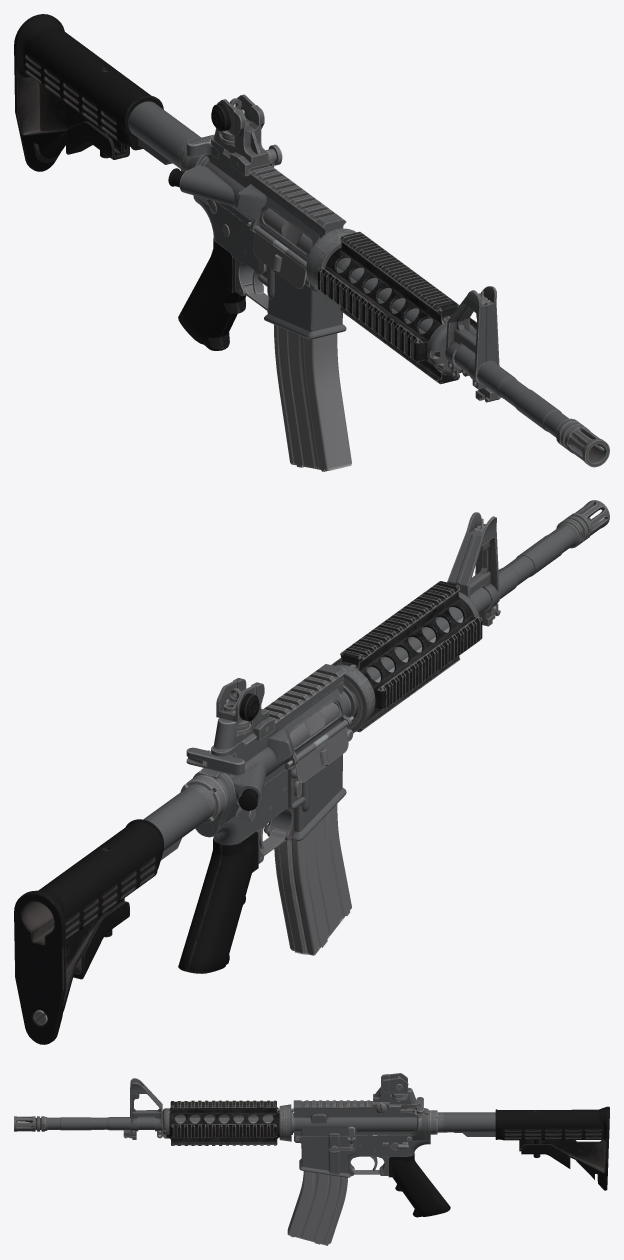
The picture shows the model from 3 angles, top to bottom: view 1: azimuth 30°, elevation 25°; view 2: azimuth 150°, elevation 25°; view 3: azimuth 270°, elevation 25°; orthographic projection. The views are drawn at different scales.
Visible parts, largest first — view 1: Body, MagazineGeometry, RearIronSightGeometry, ChargingHandleGeometry; view 2: Body, MagazineGeometry, RearIronSightGeometry, ChargingHandleGeometry; view 3: Body, MagazineGeometry, RearIronSightGeometry.
Part boxes in pixels (box(x1,y1,x2,y2)): Body: box(14, 14, 609, 467); MagazineGeometry: box(274, 324, 351, 471); RearIronSightGeometry: box(211, 94, 282, 176); ChargingHandleGeometry: box(263, 208, 312, 254); Body: box(14, 500, 609, 1044); MagazineGeometry: box(274, 804, 351, 955); RearIronSightGeometry: box(213, 678, 274, 750); ChargingHandleGeometry: box(289, 702, 338, 747); Body: box(14, 1078, 609, 1217); MagazineGeometry: box(287, 1171, 347, 1245); RearIronSightGeometry: box(373, 1073, 416, 1113).
Size of the model in its own units: 0.0673 by 0.2598 by 0.84.
1 material, 1 textured.
